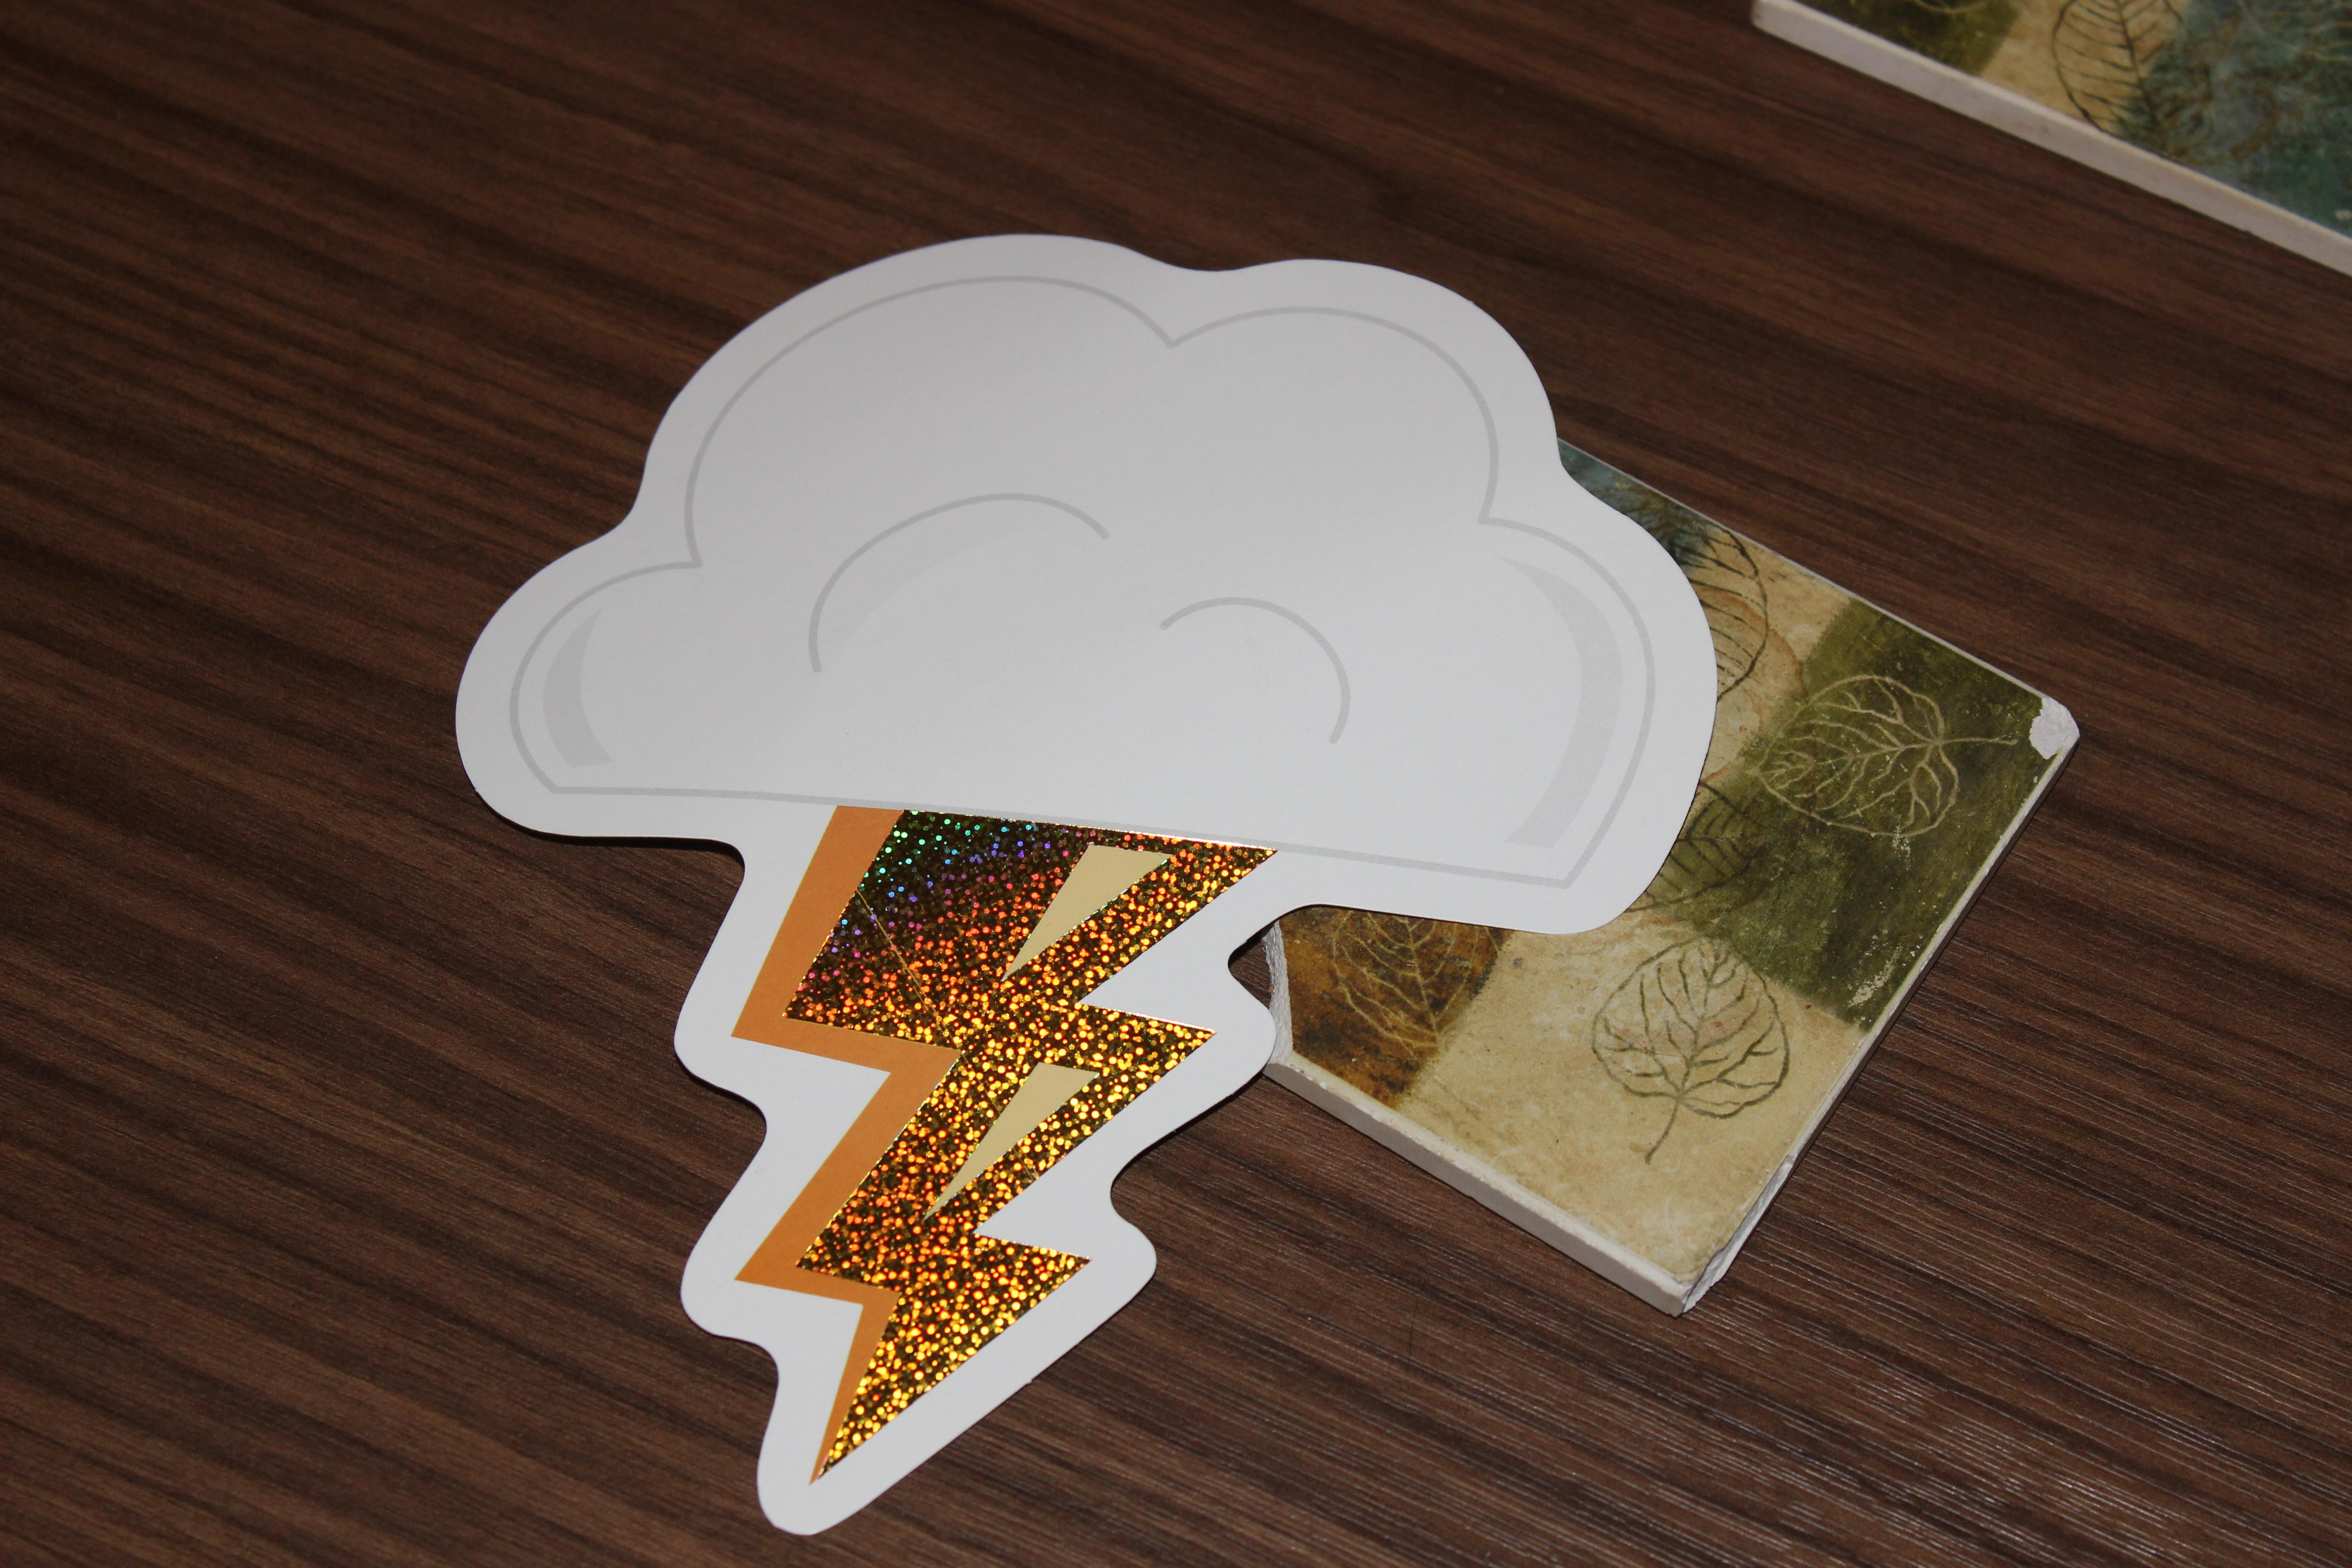cloudSign: (415, 213, 1766, 1561)
